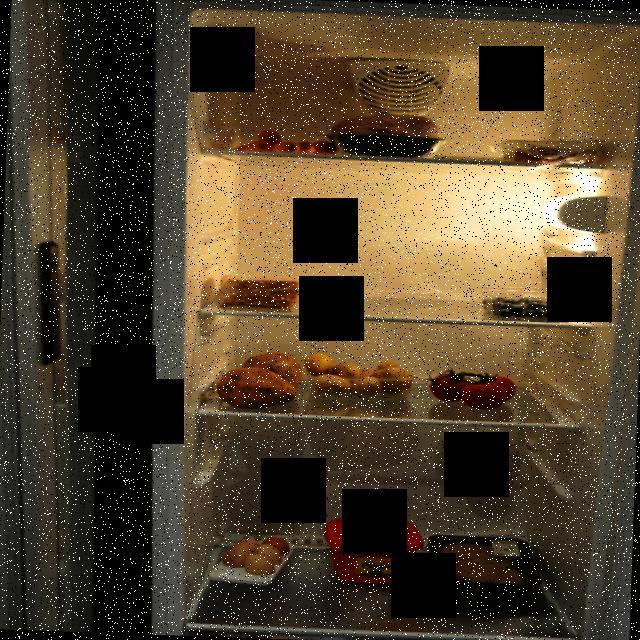Carne pollo: (426, 536, 538, 606), (330, 108, 446, 162)
Gambas/Langostinos: (504, 141, 606, 166)
Huevos: (221, 528, 292, 578)
Mantequilla: (322, 516, 424, 586)
Patata: (298, 353, 415, 399)
Tomate: (424, 364, 516, 412)
Zanahoria: (234, 124, 337, 157)
